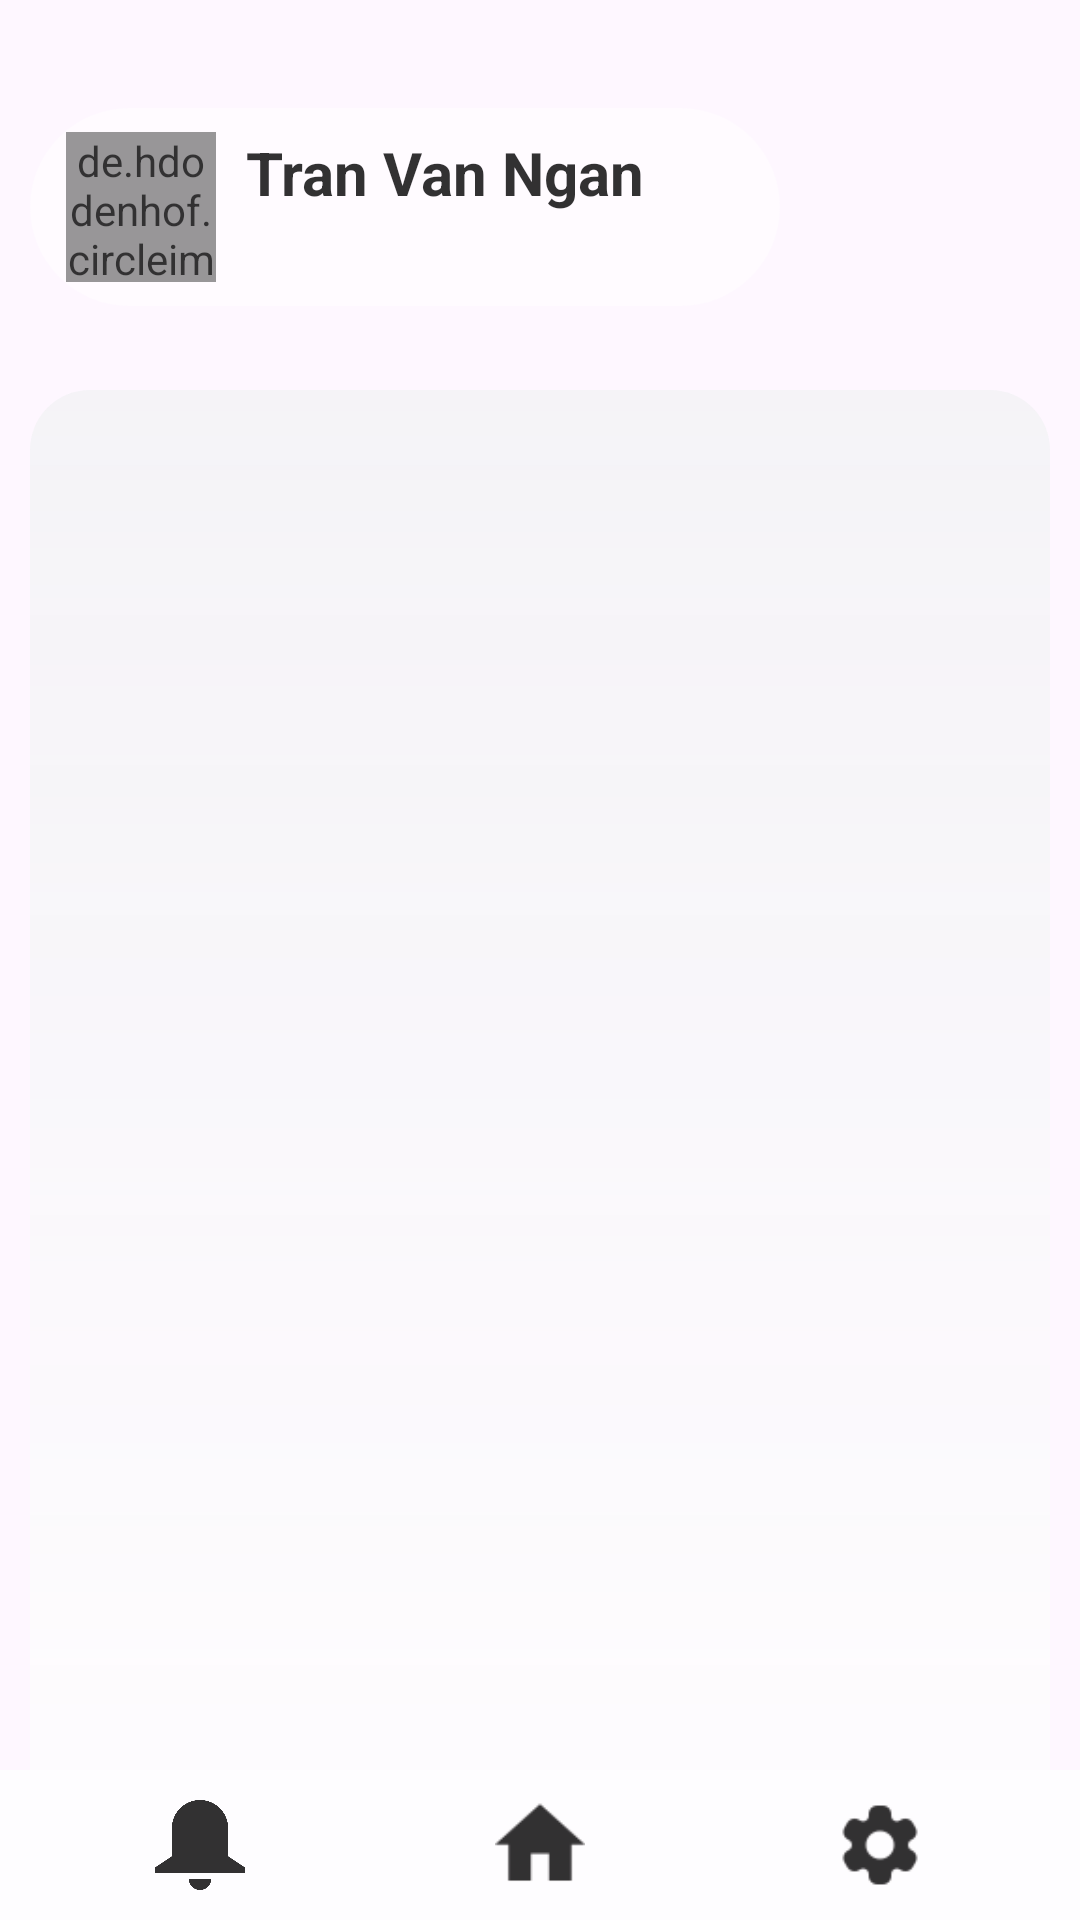

Where icons sit on this 1080px×1920px app screen, as (x1, y1, x2, y2):
bell: (155, 1800, 245, 1890)
home: (495, 1803, 585, 1881)
settings: (842, 1805, 918, 1885)
